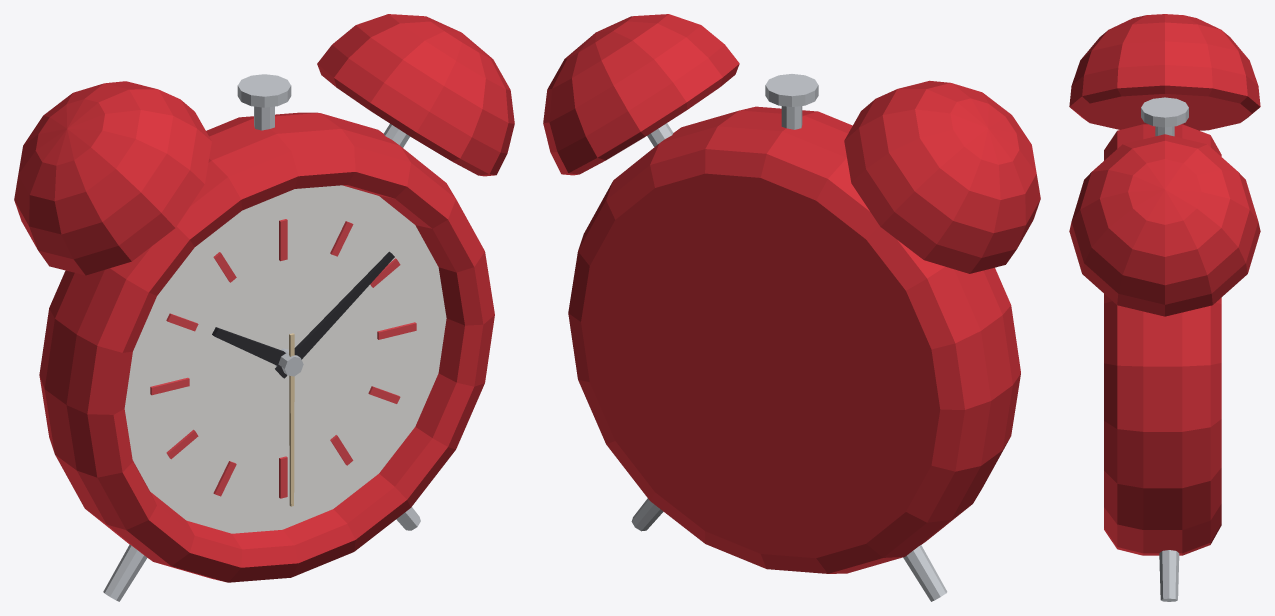
File: alarm_clock.glb
The picture shows the model from 3 angles, left to right: view 1: azimuth 30°, elevation 25°; view 2: azimuth 150°, elevation 25°; view 3: azimuth 270°, elevation 25°; orthographic projection. The views are drawn at different scales.
Visible parts, largest first — view 1: alarm_clock; view 2: alarm_clock; view 3: alarm_clock.
Part boxes in pixels (box(x1,y1,x2,y2)): alarm_clock: box(14, 14, 514, 601); alarm_clock: box(543, 14, 1040, 601); alarm_clock: box(1069, 14, 1260, 601).
Size of the model in its own units: 2.24 by 2.32 by 0.88.
